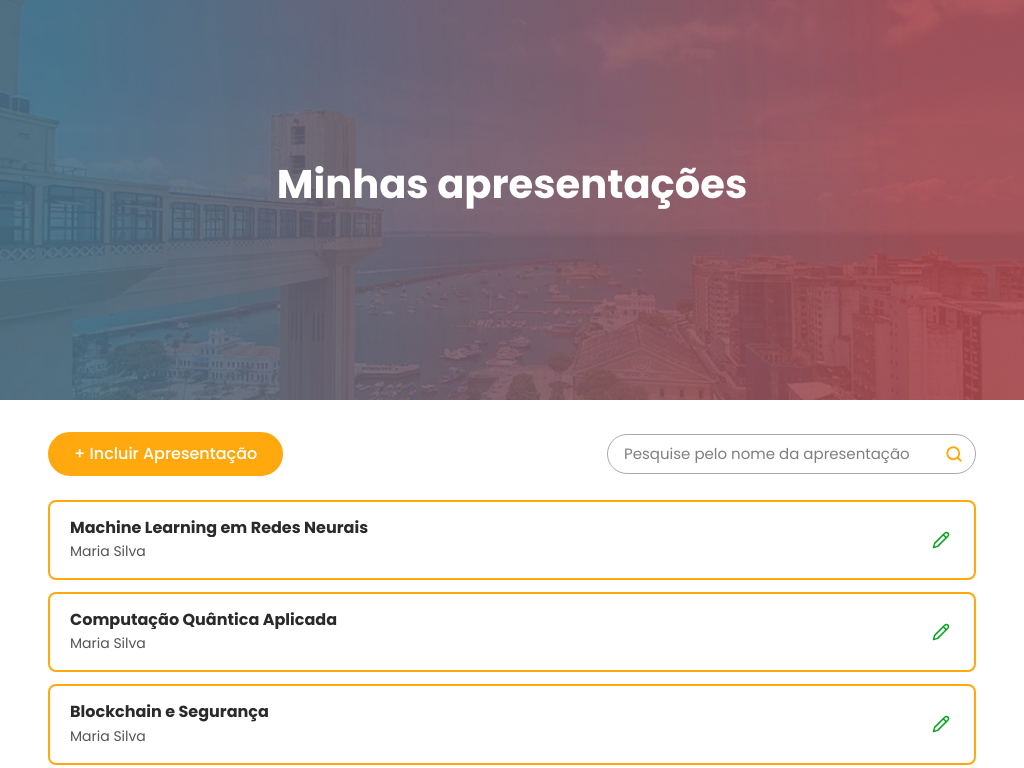
Test case: MinhasApresentacoesPage › filters submissions by search term
Expected: the heading "Machine Learning em Redes Neurais" is shown, top-left (70, 516), bottom-right (368, 539)
Type "Quântica" into the field with placeholder "Pesquise pelo nome da apresentação" at (770, 454), box top-left (608, 435), bottom-right (933, 473)
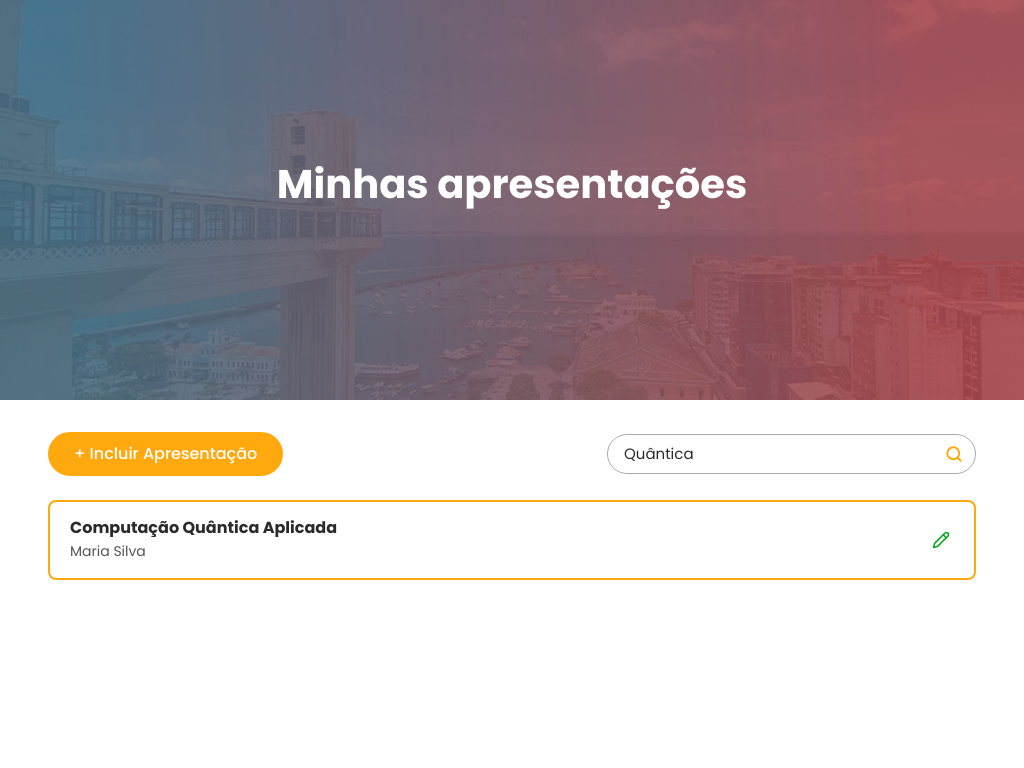
Expected: the heading "Computação Quântica Aplicada" is shown, top-left (70, 516), bottom-right (337, 539)
Expected: the heading "Machine Learning em Redes Neurais" is gone
Expected: the heading "Blockchain e Segurança" is gone
